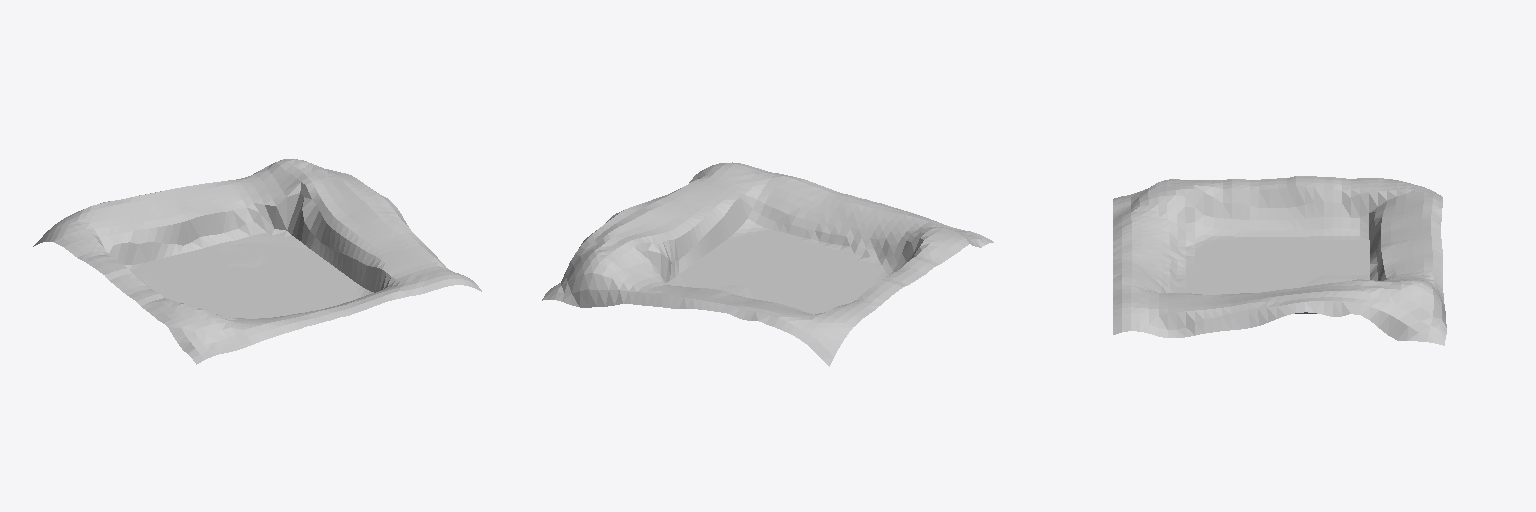
The model's file is ground.obj.
3 views of the same model, side by side, from view 1: azimuth 30°, elevation 25°; view 2: azimuth 150°, elevation 25°; view 3: azimuth 270°, elevation 25° (orthographic).
Parts seen in each view (by area): view 1: Plane; view 2: Plane; view 3: Plane.
Boxes of the visible parts, <box> form: Plane: <box>33,159,481,364</box>; Plane: <box>542,162,993,366</box>; Plane: <box>1113,176,1446,345</box>.
Size of the model in its own units: 101 by 15.52 by 101.